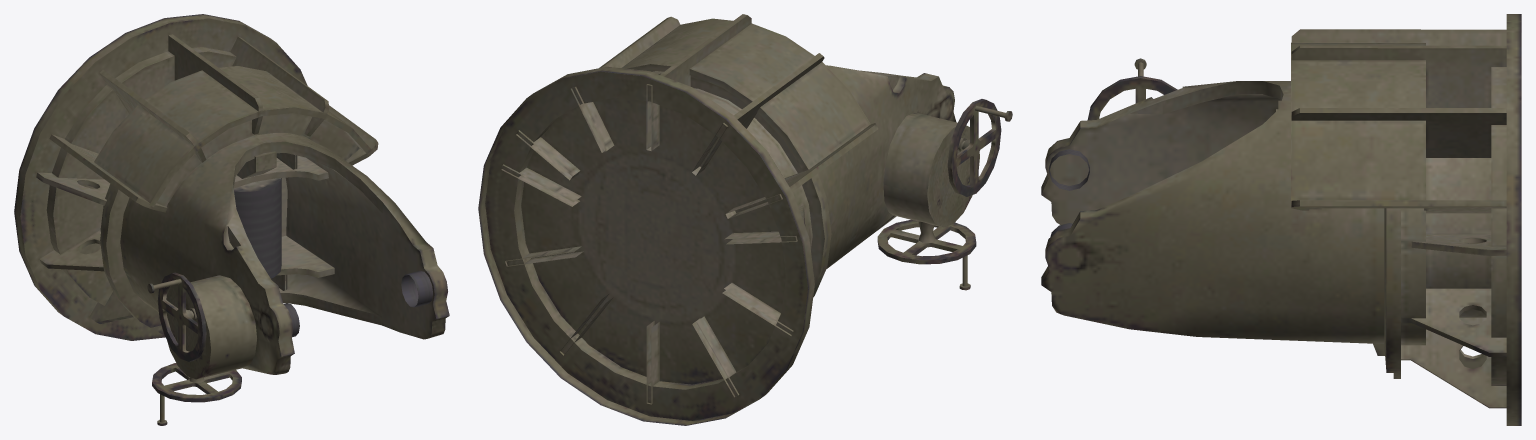
Rendered from Turret_01.glb.
3 renders of one model, left to right at view 1: azimuth 30°, elevation 25°; view 2: azimuth 150°, elevation 25°; view 3: azimuth 270°, elevation 25°, orthographic. The views are drawn at different scales.
Visible parts, largest first — view 1: set_0_group_0; view 2: set_0_group_0; view 3: set_0_group_0.
Part boxes in pixels (x1=…): set_0_group_0: x1=14, y1=14, x2=449, y2=425; set_0_group_0: x1=478, y1=14, x2=1012, y2=425; set_0_group_0: x1=1041, y1=14, x2=1521, y2=425.
Size of the model in its own units: 1.17 by 1.08 by 1.25.
1 material, 1 textured.
